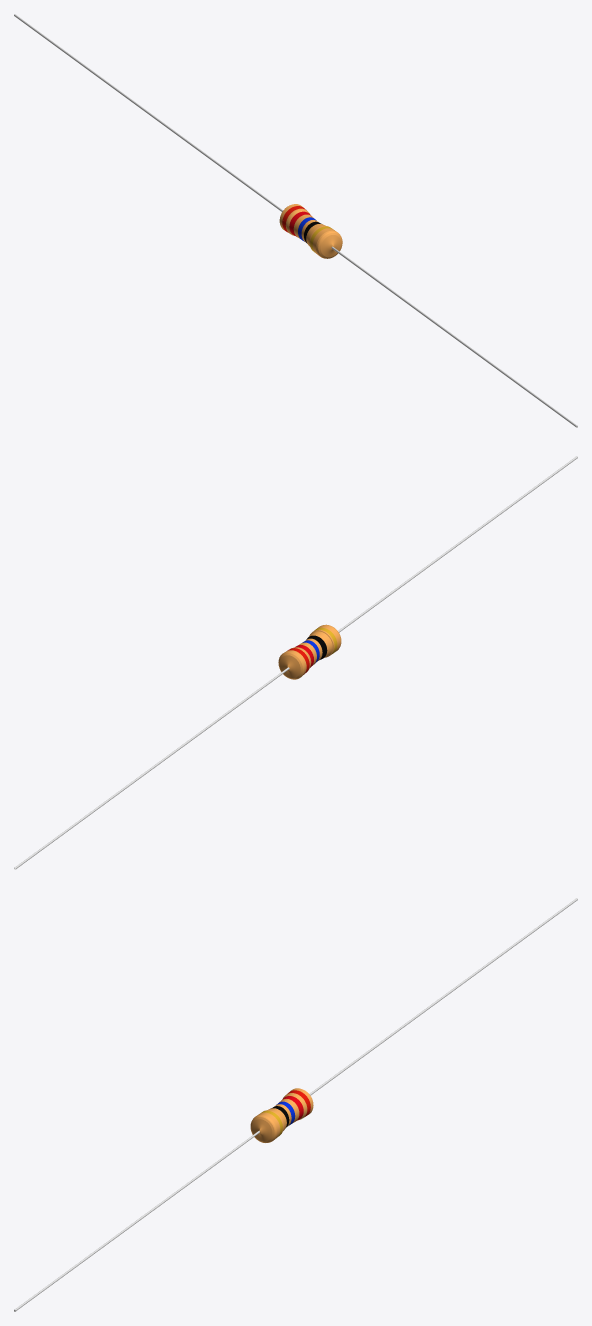
3 renders of one model, top to bottom at view 1: azimuth 30°, elevation 25°; view 2: azimuth 150°, elevation 25°; view 3: azimuth 330°, elevation 25°, orthographic.
Parts seen in each view (by area): view 1: 針金, 本体; view 2: 針金, 本体; view 3: 針金, 本体.
Part boxes in pixels (x1=…): 針金: x1=14, y1=14, x2=577, y2=427; 本体: x1=279, y1=204, x2=342, y2=258; 針金: x1=14, y1=456, x2=577, y2=869; 本体: x1=278, y1=624, x2=341, y2=679; 針金: x1=14, y1=898, x2=577, y2=1311; 本体: x1=250, y1=1088, x2=313, y2=1142.
Bounding box in the file's own units: 8.53 × 318 × 8.53.
